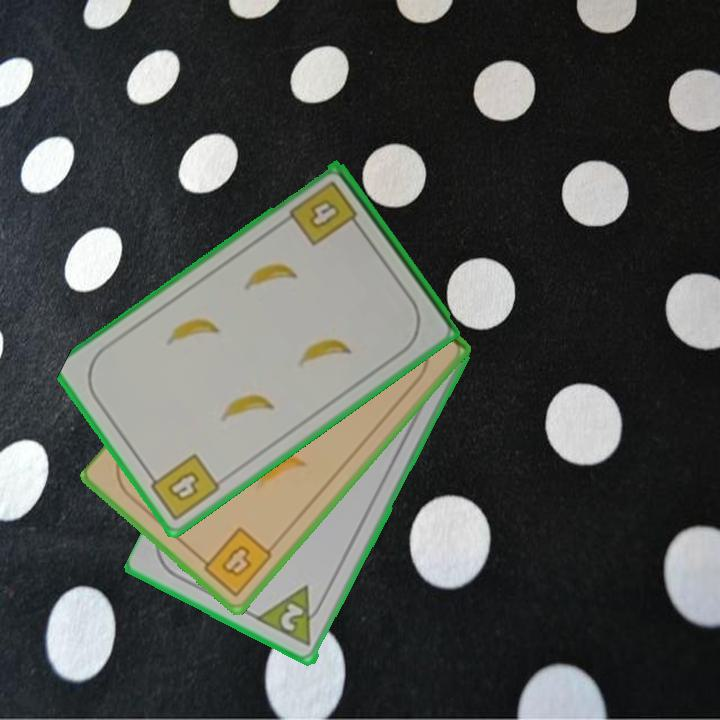2p: (254, 582, 329, 650)
4b: (194, 523, 276, 600), (142, 450, 223, 524), (286, 177, 365, 249)
